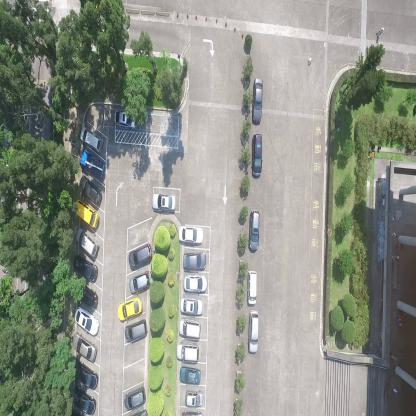car: (71, 358, 99, 390), (70, 332, 97, 364), (74, 228, 100, 260), (73, 306, 100, 336), (74, 198, 99, 230), (78, 150, 105, 179), (78, 174, 102, 206), (128, 240, 152, 272), (72, 254, 98, 282), (70, 387, 96, 415), (117, 295, 143, 323), (251, 75, 263, 127), (124, 317, 148, 343), (74, 282, 97, 309), (247, 310, 260, 356), (79, 126, 102, 152), (124, 384, 146, 411), (129, 269, 151, 296), (248, 209, 261, 254), (251, 132, 263, 178), (114, 107, 138, 130), (151, 191, 176, 212), (178, 318, 201, 340), (183, 250, 207, 271), (175, 341, 199, 362), (183, 274, 208, 294), (179, 224, 203, 244), (179, 365, 201, 386), (180, 296, 203, 316), (246, 269, 258, 306), (184, 390, 204, 408)
